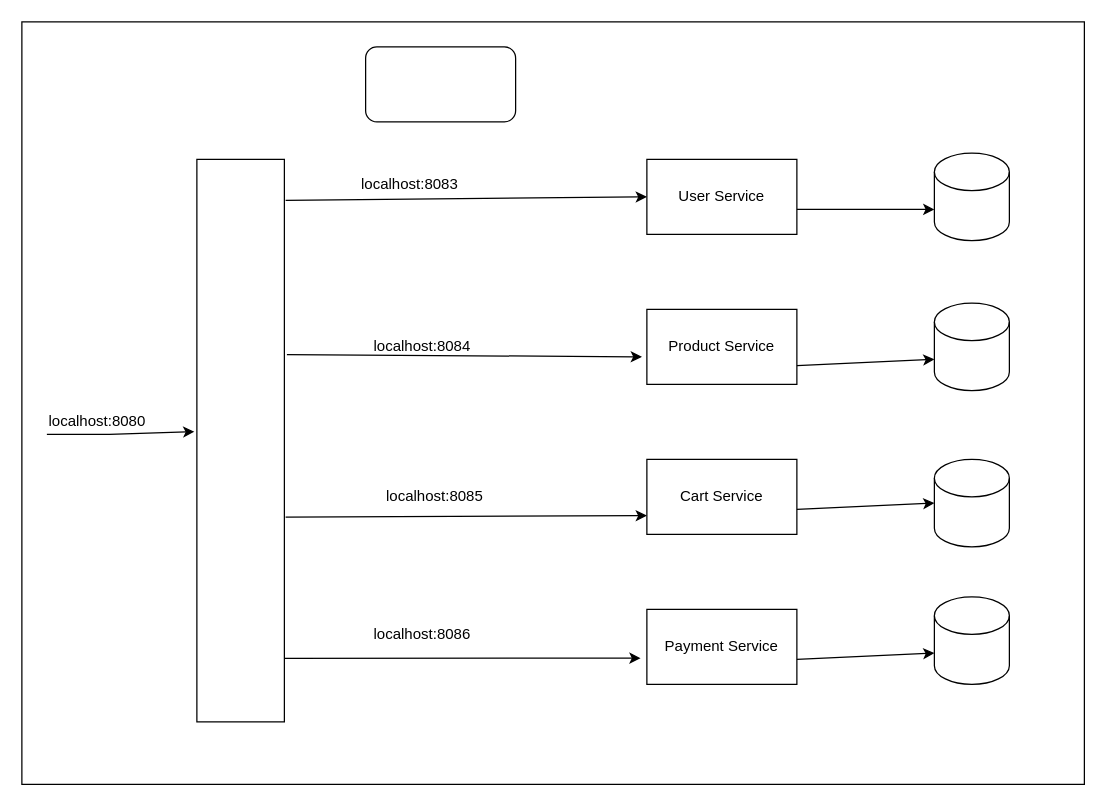
Image size: 1106x806. Some labels were removed from this diagram. Each missing label, with the centre of its shape:
API Gateway: pixel 240 440
Service Registry: pixel 440 84
